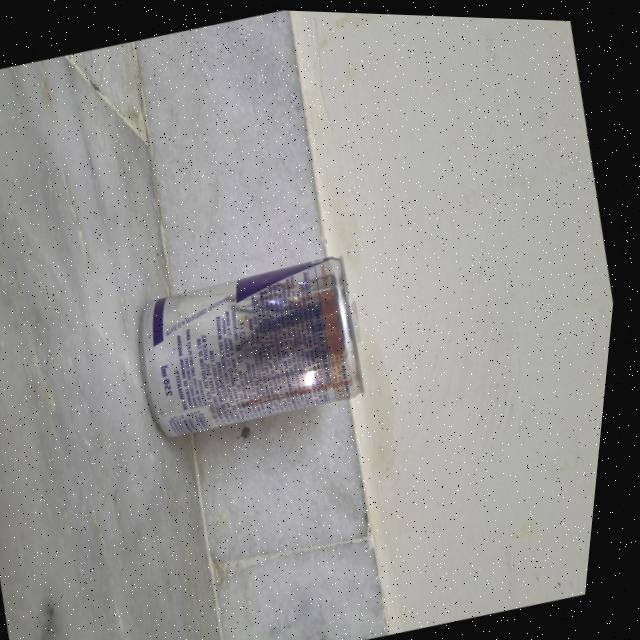Redbul: (120, 228, 401, 462)
